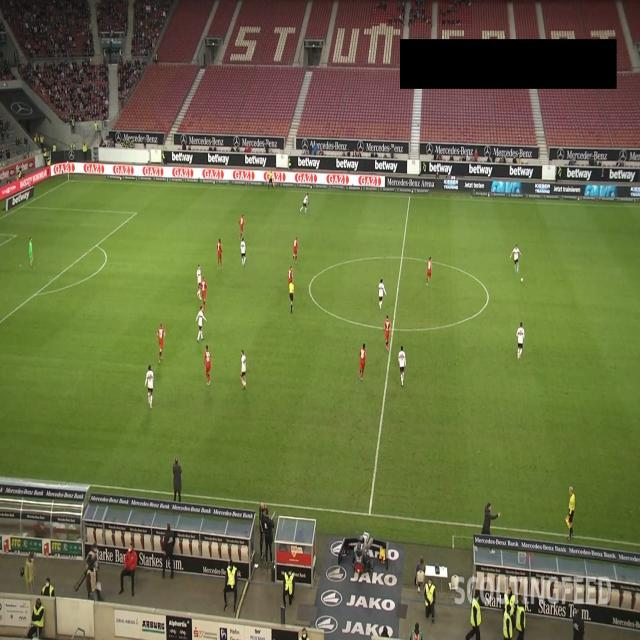ball: (520, 276, 524, 284)
